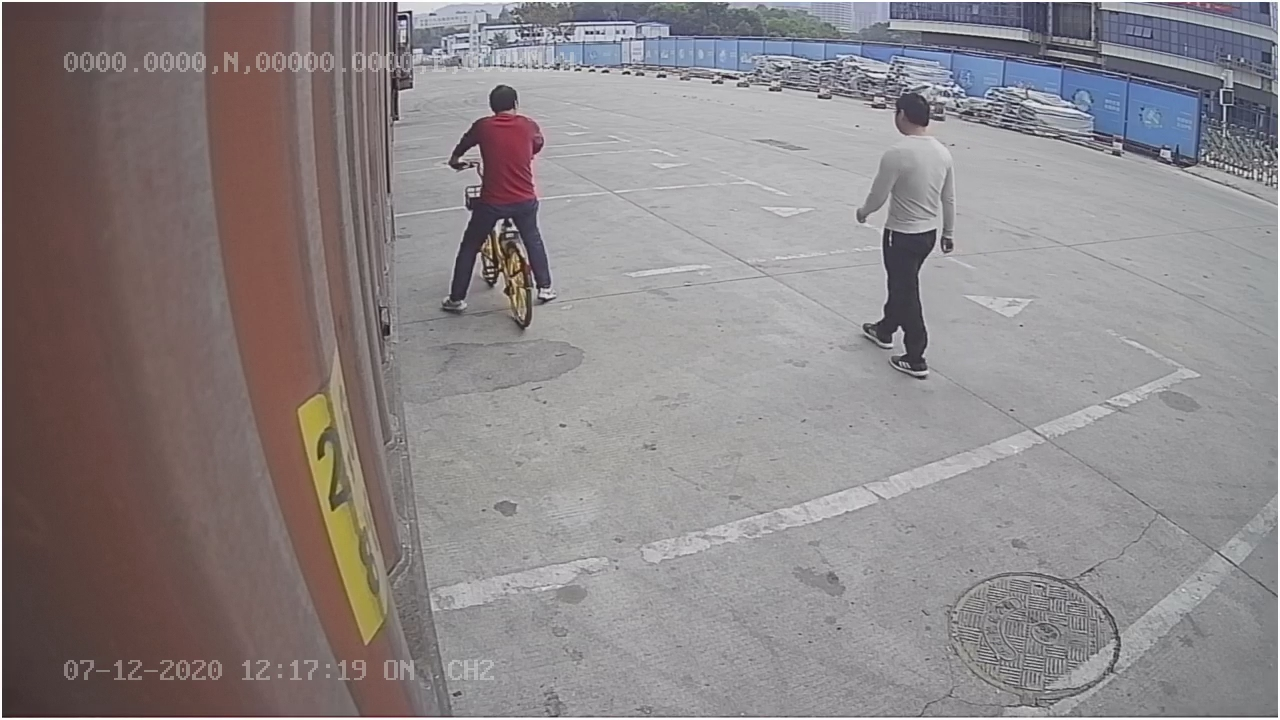person: (852, 90, 960, 378)
